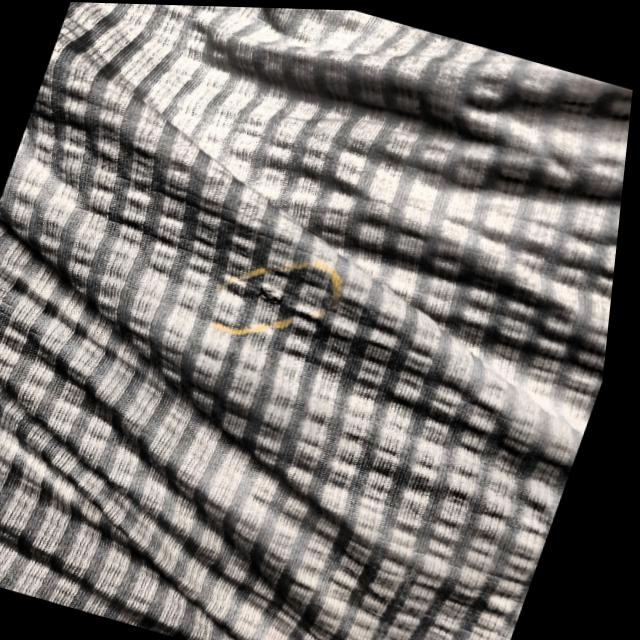Hole: (250, 271, 296, 311), (256, 277, 297, 313)
